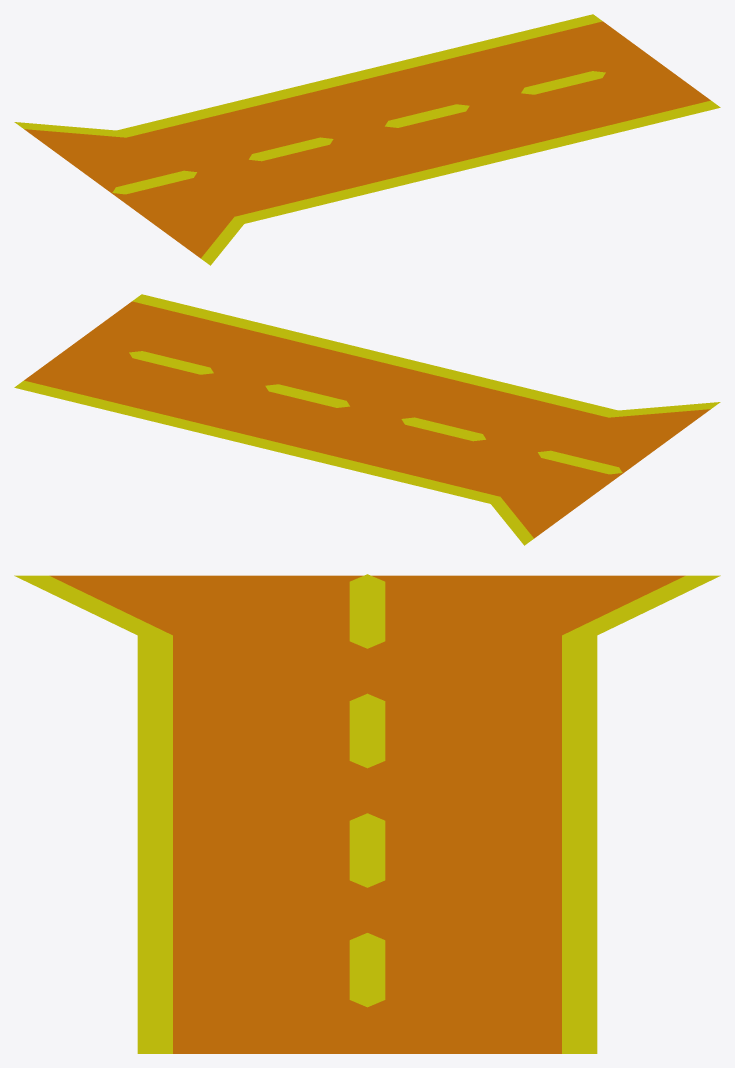
File: Mesh_road_reducing_smaller.fbx
The picture shows the model from 3 angles, top to bottom: view 1: azimuth 30°, elevation 25°; view 2: azimuth 150°, elevation 25°; view 3: azimuth 270°, elevation 25°; orthographic projection. The views are drawn at different scales.
Visible parts, largest first — view 1: Mesh_road_reducing_smaller; view 2: Mesh_road_reducing_smaller; view 3: Mesh_road_reducing_smaller.
Boxes of the visible parts, x1,y1,x2,y2 form: Mesh_road_reducing_smaller: [14, 14, 720, 265]; Mesh_road_reducing_smaller: [14, 294, 720, 545]; Mesh_road_reducing_smaller: [14, 574, 720, 1053].
Size of what is drawn, in the model's own units: 1600 by 2.5 by 1000.
